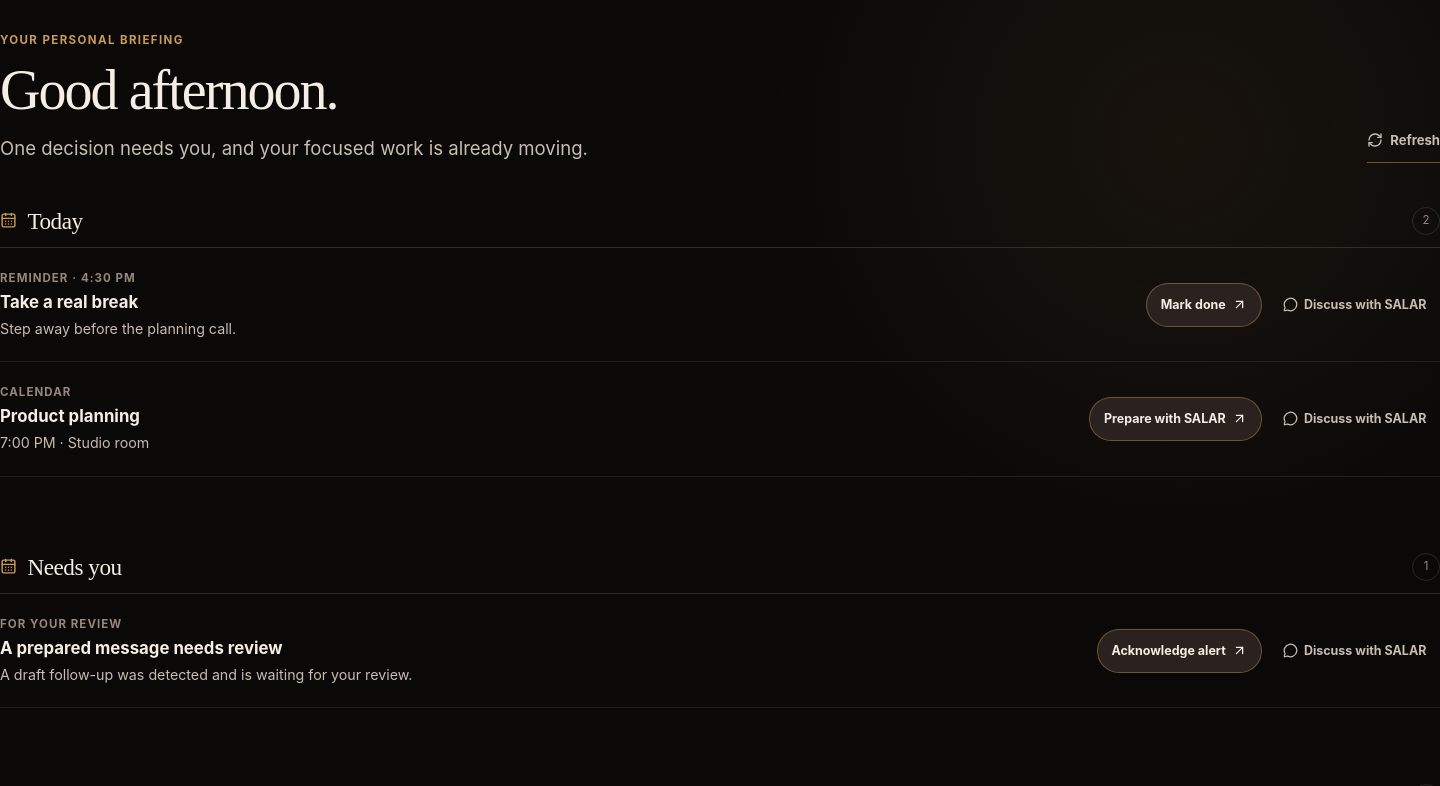
Briefing › prevents overlapping row mutations
Click the button with aria-label "Mark Take a real break done": (1204, 305) [1146,283,1262,327]
(page scrolled)
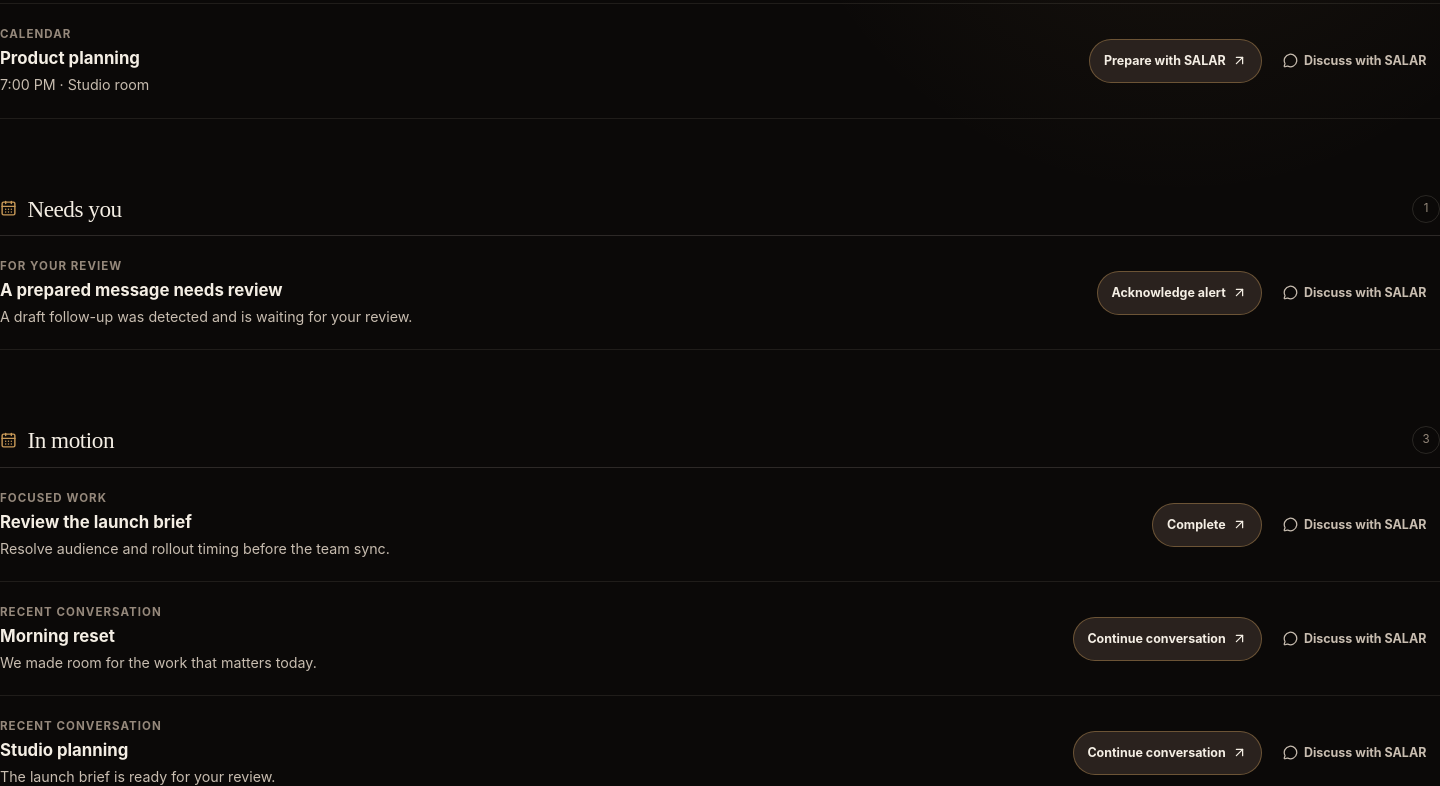
Check: the button with aria-label "Mark Review the launch brief complete" is disabled
Click the button with aria-label "Mark Review the launch brief complete": (1207, 525) [1152,503,1262,547]
(page scrolled)
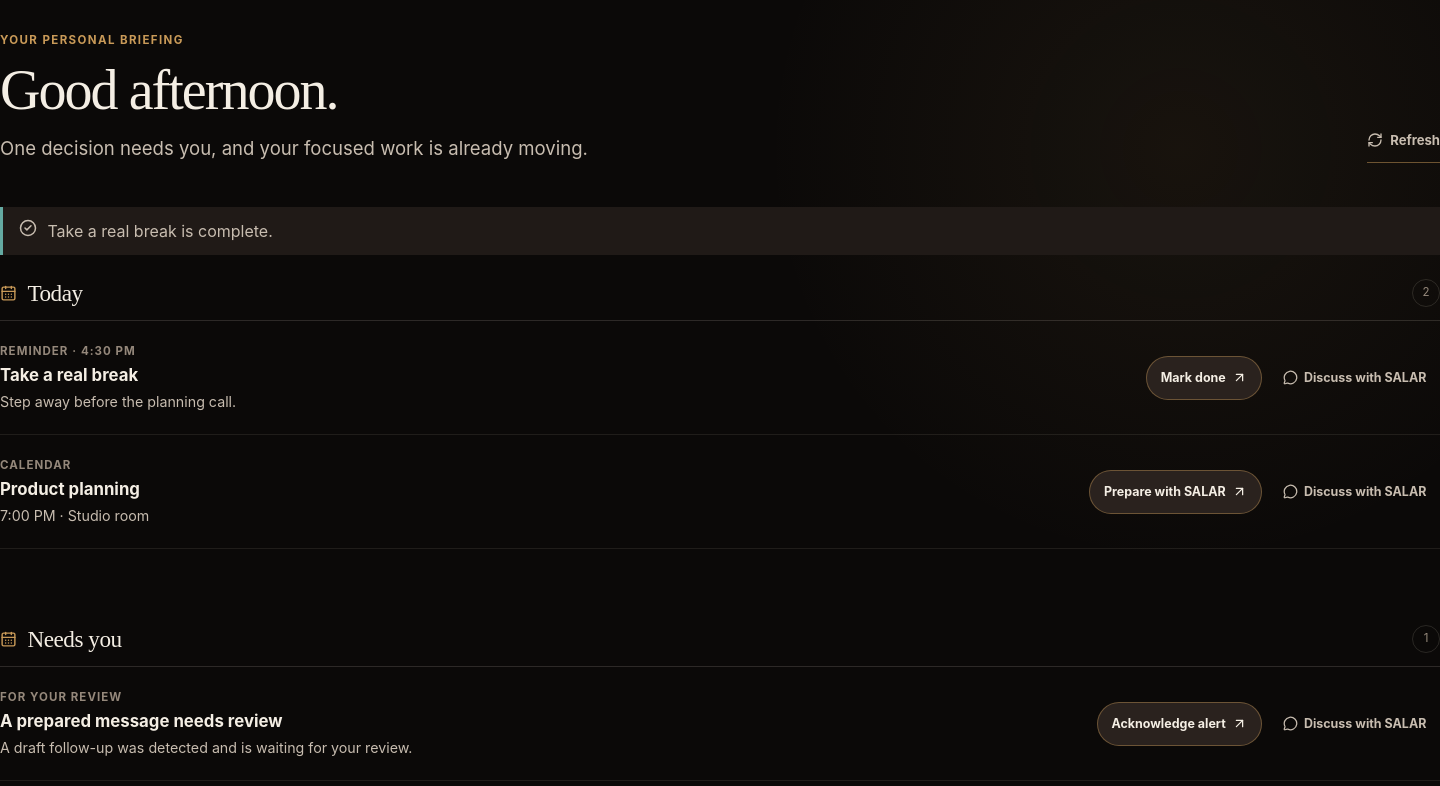
Check: the text "Take a real break is complete." is shown, box [47,218,273,243]
